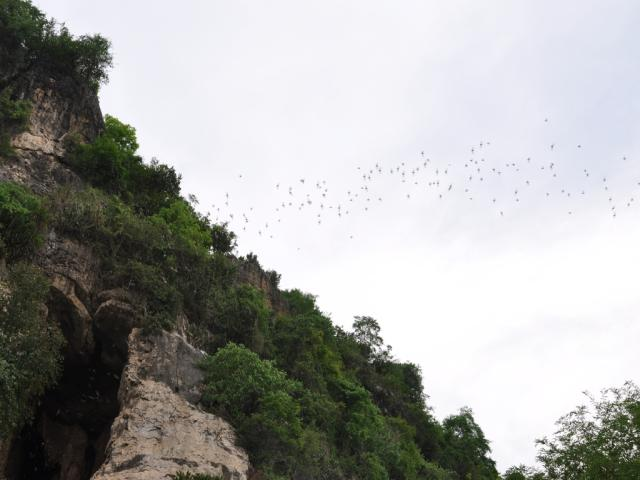Bird: (209, 138, 640, 238), (275, 181, 280, 188), (297, 247, 301, 251), (544, 118, 546, 123)
